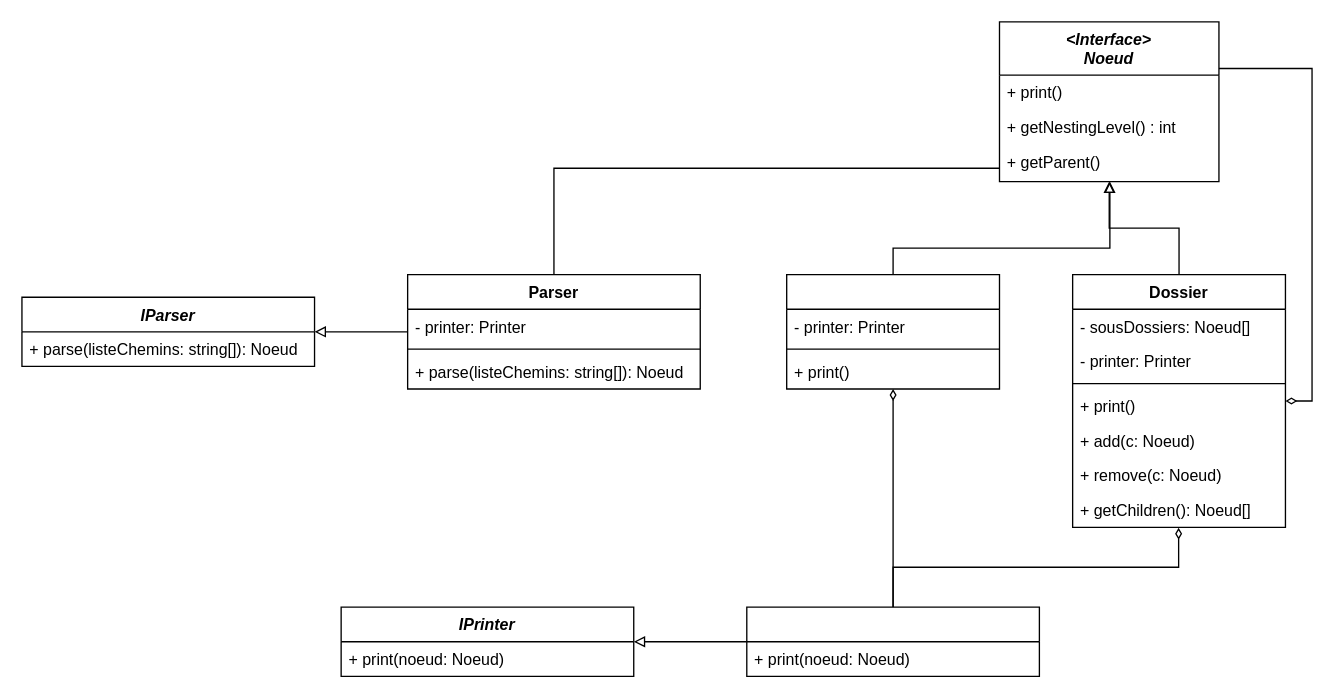
The diagram is 1334 pixels wide and 698 high, and some of its shapes have lost their labels. The box of each missing label's shape, as (x1, y1, x2, y2) in pixels:
Fichier: (785, 273, 999, 389)
Printer: (745, 606, 1039, 676)
